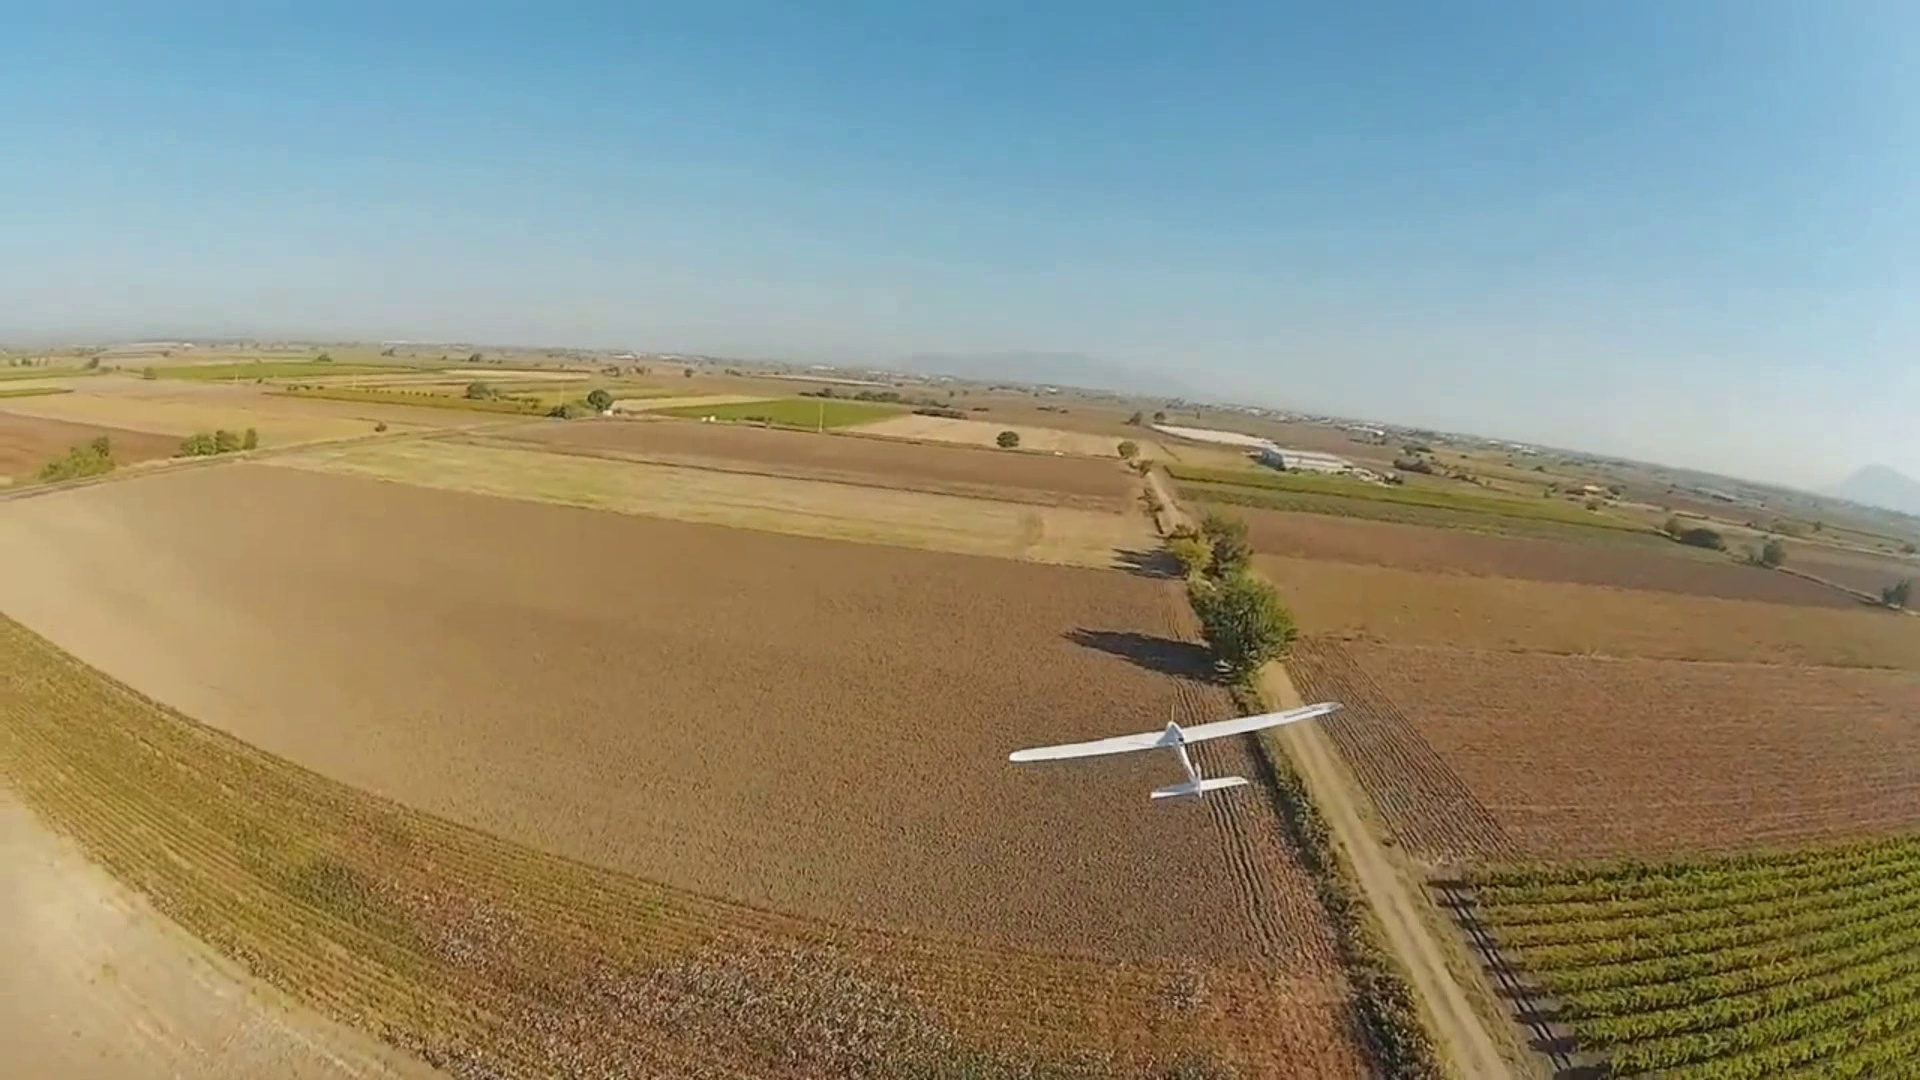airplane: (1005, 691, 1342, 804)
